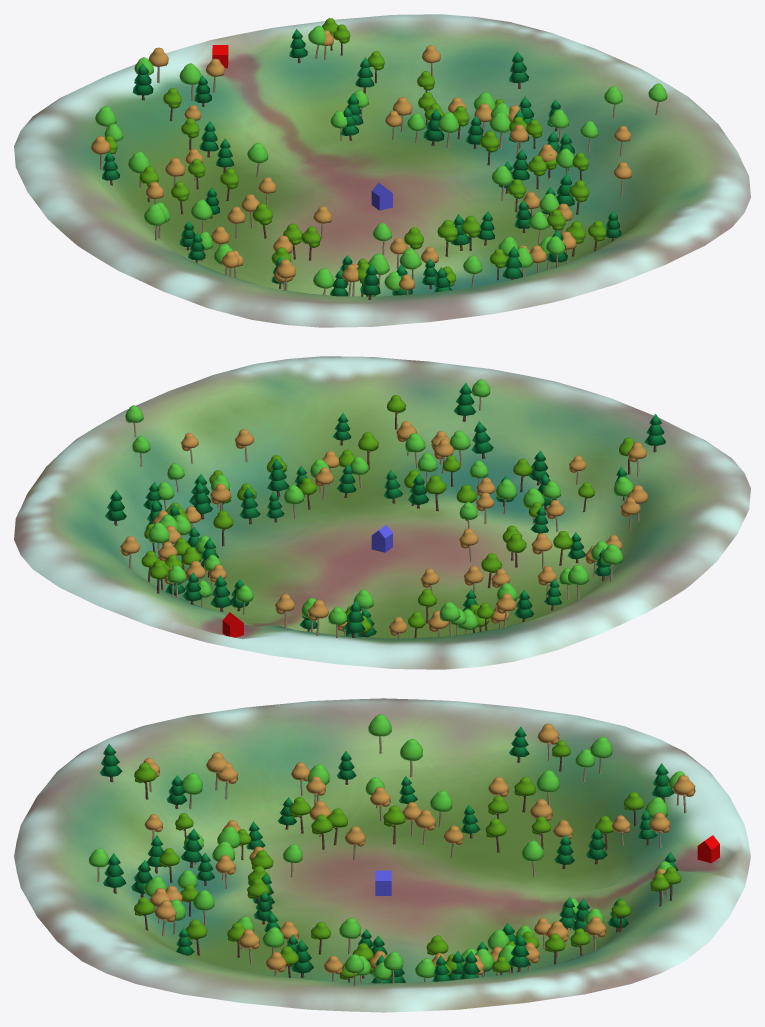
File: map.fbx
The picture shows the model from 3 angles, top to bottom: view 1: azimuth 30°, elevation 25°; view 2: azimuth 150°, elevation 25°; view 3: azimuth 270°, elevation 25°; orthographic projection. The views are drawn at different scales.
Parts seen in each view (by area): view 1: Floor; view 2: Floor; view 3: Floor, Tree.143.
Boxes of the visible parts, x1,y1,x2,y2 form: Floor: [14, 14, 750, 327]; Floor: [14, 356, 750, 669]; Floor: [14, 698, 750, 1012]; Tree.143: [103, 853, 126, 893].
Size of the model in its own units: 3381 by 3381 by 453.
